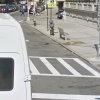Crosswalk: (32, 52, 92, 84)
